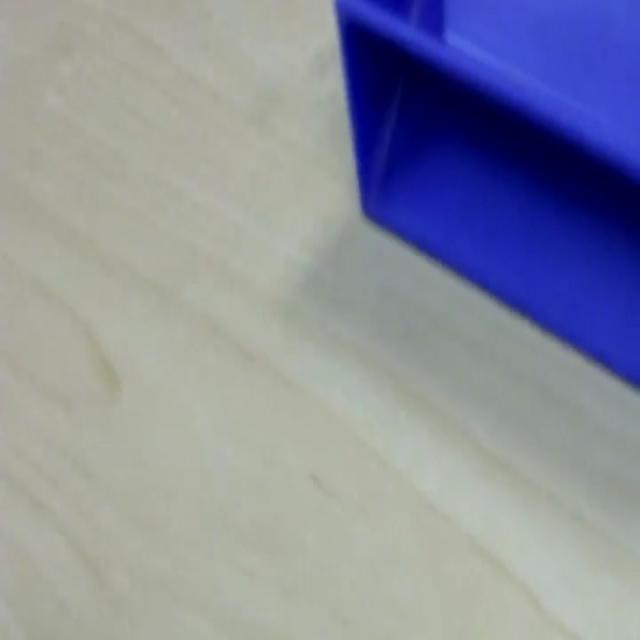blue_block: (332, 0, 638, 389)
